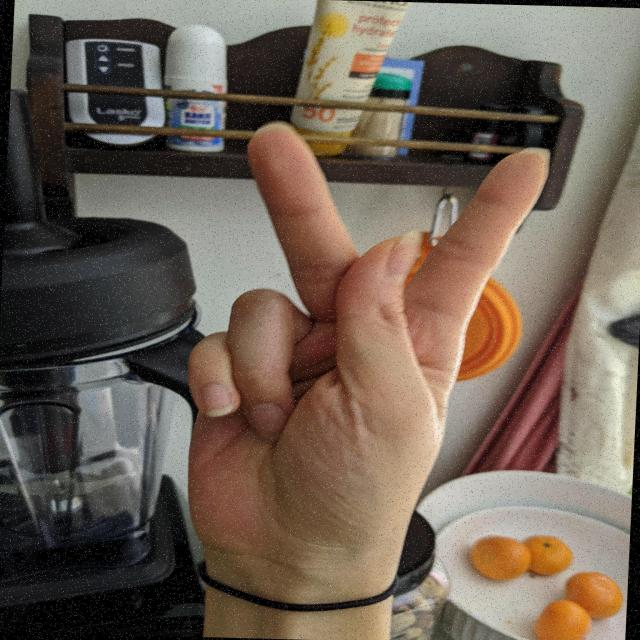K: (167, 114, 564, 577)
